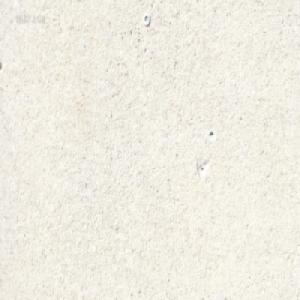Washer: (143, 12, 150, 26)
